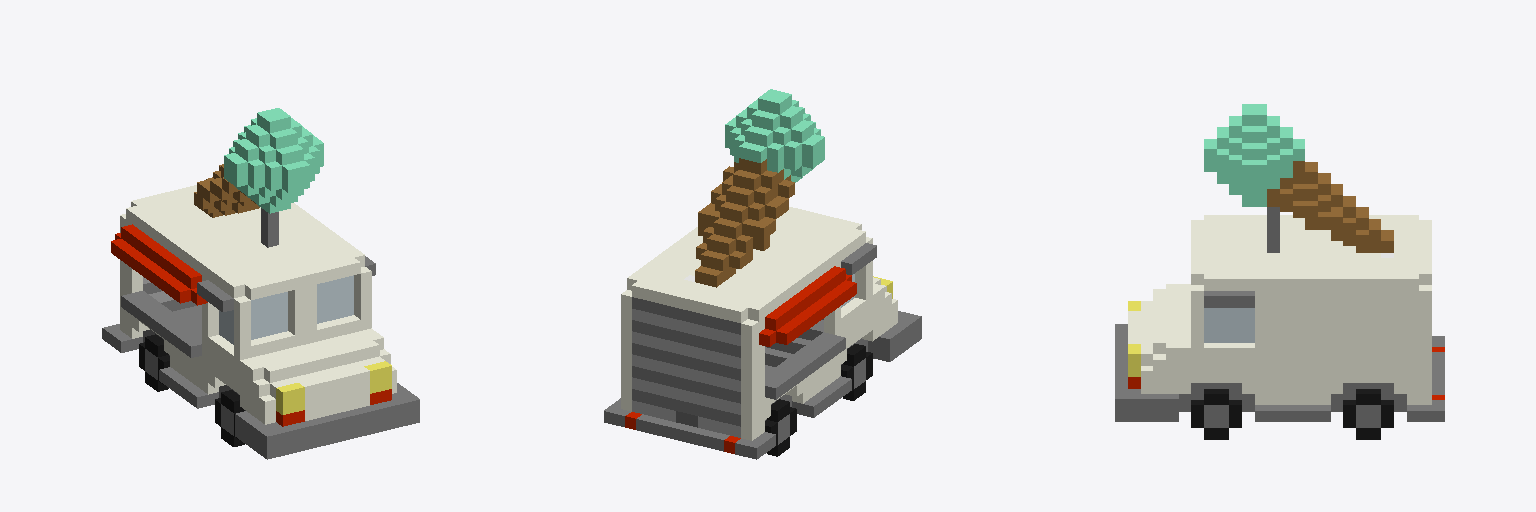
3 views of the same model, side by side, from view 1: azimuth 30°, elevation 25°; view 2: azimuth 150°, elevation 25°; view 3: azimuth 270°, elevation 25° (orthographic).
Visible parts, largest first — view 1: ice_cream1; view 2: ice_cream1; view 3: ice_cream1.
Boxes of the visible parts, box(x1,y1,x2,y2) form: ice_cream1: box(102, 108, 419, 459); ice_cream1: box(604, 89, 921, 459); ice_cream1: box(1115, 104, 1444, 439).
Bounding box in the file's own units: 15 × 26 × 26.
Materials: 1 (1 with a texture image).